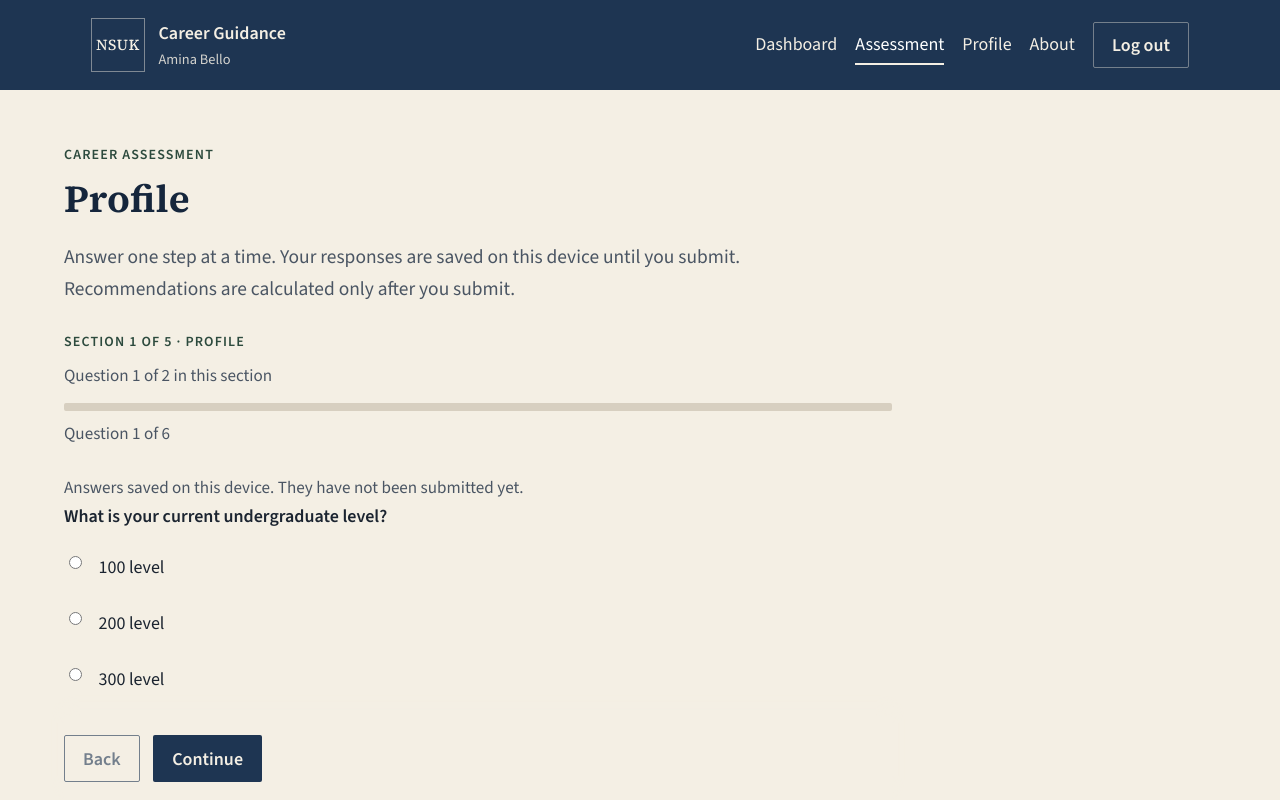
blocks continue when a required field is empty
The image size is (1280, 800).
Expected: the text "What is your current undergraduate level?" is shown, left=64, top=502, right=387, bottom=531
Click the button "Continue".
click(208, 758)  # box left=153, top=735, right=262, bottom=782
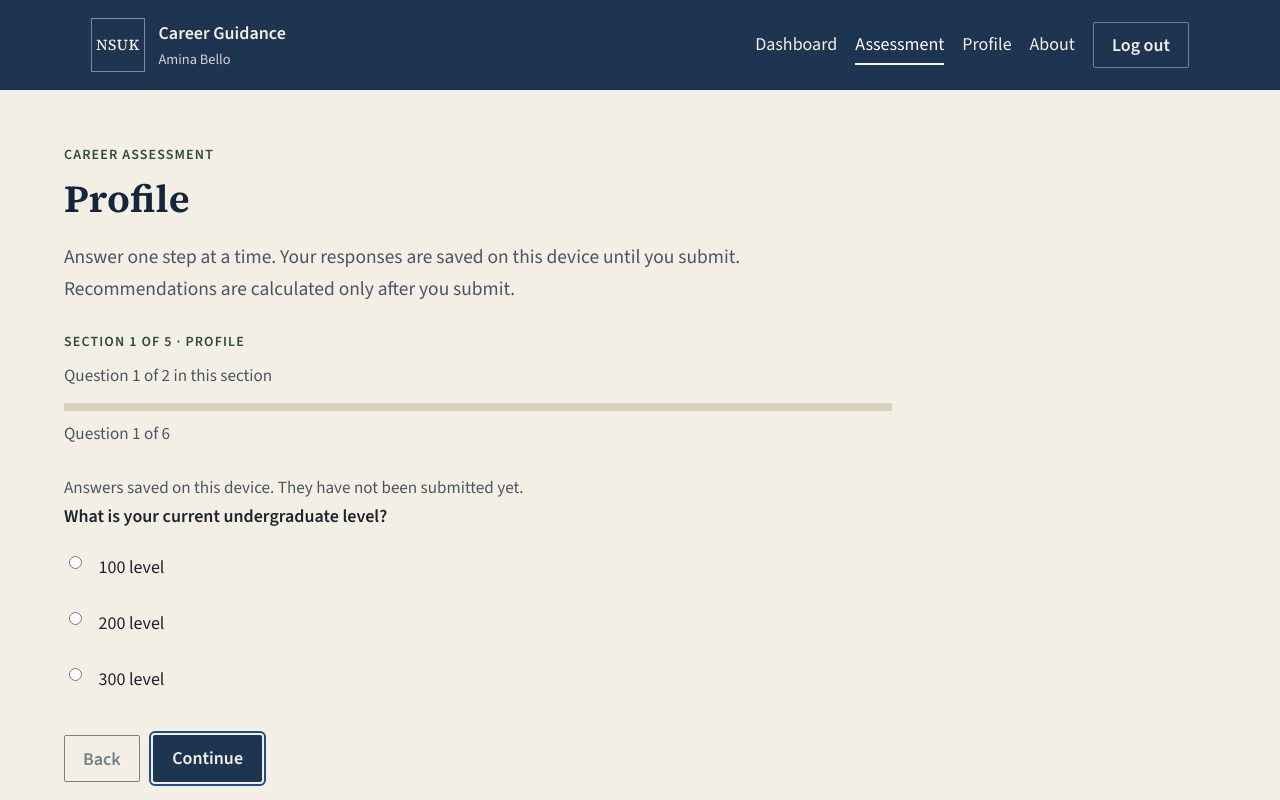
Now the message reads "This question is required.", box left=64, top=722, right=234, bottom=743
